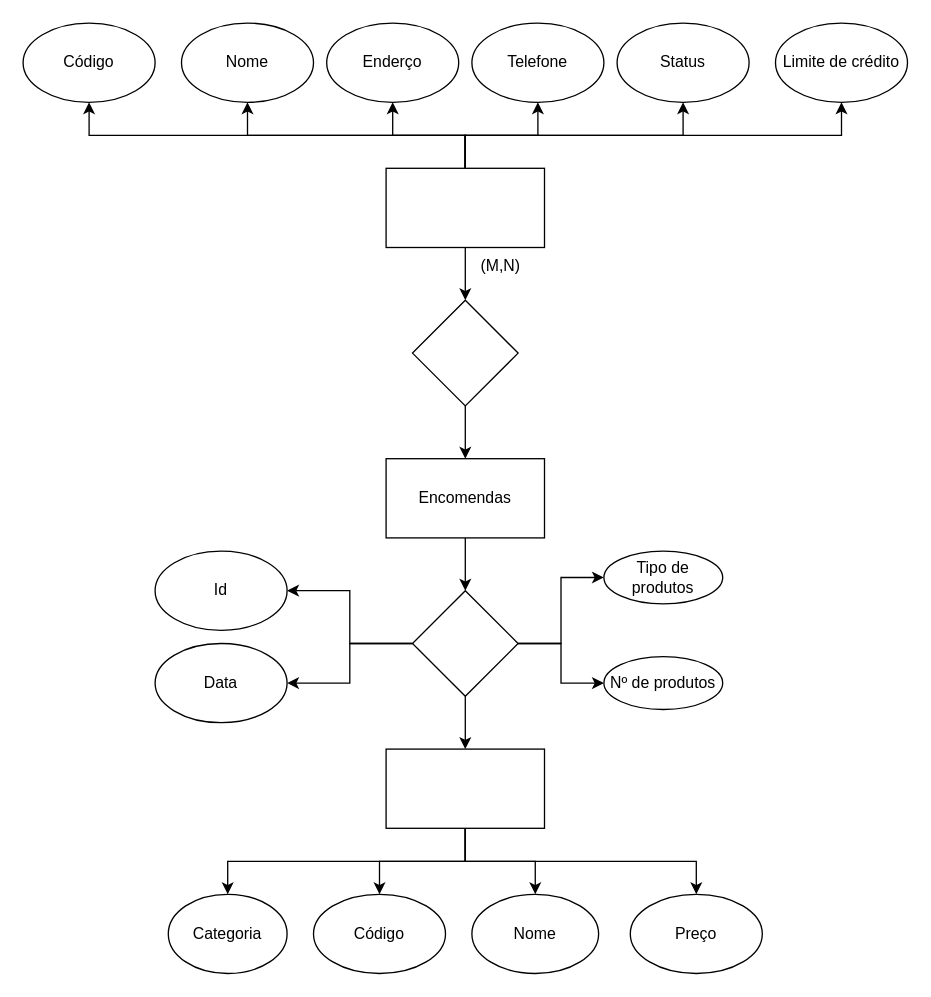
This 931x997 diagram has some shape labels left out. Each missing label, with the centre of its shape:
Clientes: point 464,207
Contém: point 464,642
Pedem: point 464,352
Produtos de Limpeza: point 464,788
